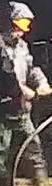helmet: (11, 17, 33, 34)
